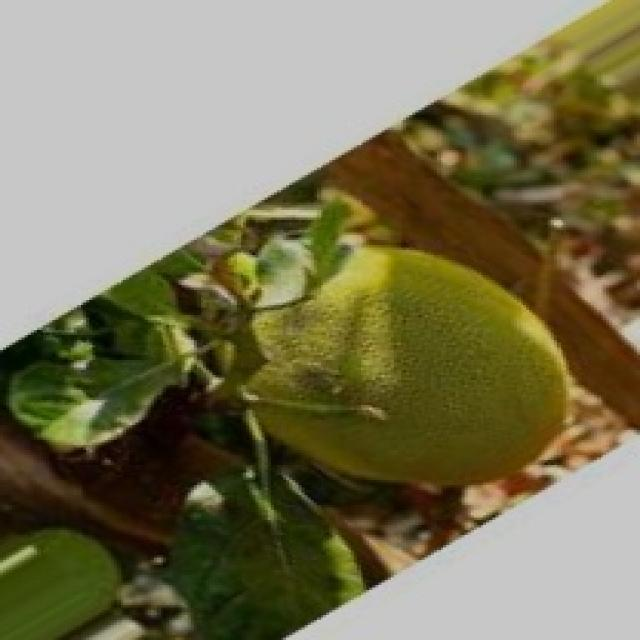Fruit: (231, 218, 594, 528)
